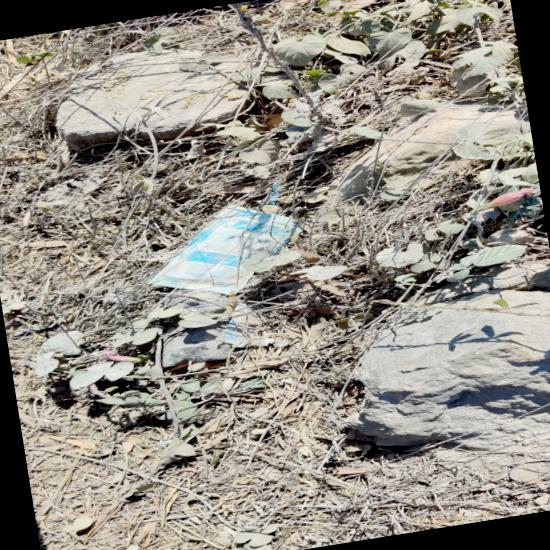Glass bottle: (161, 289, 230, 368)
Other carton: (217, 302, 288, 346)
Other plastic: (145, 204, 302, 294)
